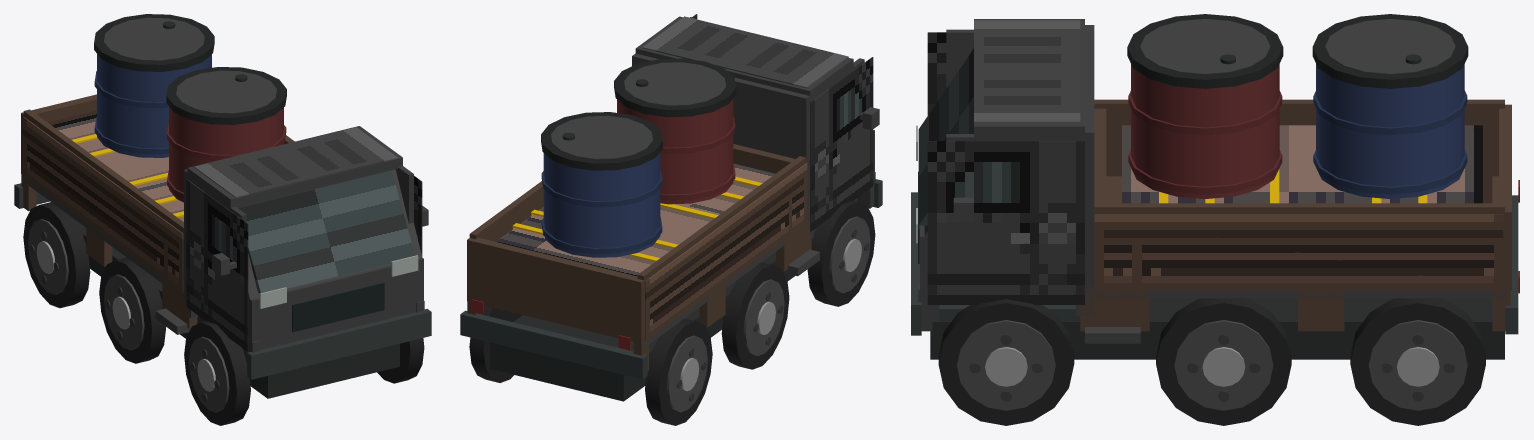
The model's file is CMU3DRMCPropVehicleSmallTruckBrownCargoAlt.glb.
The picture shows the model from 3 angles, left to right: view 1: azimuth 30°, elevation 25°; view 2: azimuth 150°, elevation 25°; view 3: azimuth 270°, elevation 25°; orthographic projection. The views are drawn at different scales.
Visible parts, largest first — view 1: continuous sloped windshield, original cargo side -1, original cab door -1, original cab roof, cab lower front, barrel 1 shell, front bumper, barrel 0 shell, ladder chassis, barrel 0 recessed gray lid, barrel 1 recessed gray lid, original strapped load top (+28 smaller); view 2: tailgate, original cargo side -1, barrel 1 shell, original cab door -1, original cab roof, barrel 0 shell, ladder chassis, cab rear wall, original strapped load top, rear bumper, barrel 0 recessed gray lid, barrel 1 recessed gray lid (+25 smaller); view 3: original cargo side 1, original cab door 1, barrel 0 shell, barrel 1 shell, original cab roof, original strapped load top, ladder chassis, tire 2 1, tire 3 1, tire 1 1, barrel 1 recessed gray lid, barrel 0 recessed gray lid (+34 smaller).
Boxes of the visible parts, x1,y1,x2,y2 form: continuous sloped windshield: (238, 170, 414, 293); original cargo side -1: (23, 116, 183, 292); original cab door -1: (186, 179, 248, 351); original cab roof: (194, 127, 397, 197); cab lower front: (248, 257, 423, 351); barrel 1 shell: (97, 54, 211, 157); front bumper: (247, 308, 431, 379); barrel 0 shell: (169, 106, 283, 202); ladder chassis: (76, 220, 399, 398); barrel 0 recessed gray lid: (176, 70, 276, 113); barrel 1 recessed gray lid: (104, 17, 204, 60); original strapped load top: (48, 110, 183, 221); tailgate: (467, 237, 646, 343); original cargo side -1: (645, 163, 807, 341); barrel 1 shell: (543, 152, 660, 257); original cab door -1: (810, 57, 873, 231); original cab roof: (642, 16, 848, 88); barrel 0 shell: (617, 99, 733, 204); ladder chassis: (490, 238, 812, 401); cab rear wall: (632, 53, 813, 239); original strapped load top: (496, 163, 775, 276); rear bumper: (460, 310, 647, 379); barrel 0 recessed gray lid: (624, 62, 726, 105); barrel 1 recessed gray lid: (551, 115, 652, 159); original cargo side 1: (1094, 214, 1503, 290); original cab door 1: (927, 141, 1084, 304); barrel 0 shell: (1131, 64, 1279, 198); barrel 1 shell: (1316, 64, 1464, 198); original cab roof: (974, 20, 1080, 122); original strapped load top: (1122, 125, 1492, 203); ladder chassis: (930, 298, 1504, 359); tire 2 1: (1156, 298, 1291, 425); tire 3 1: (1350, 298, 1485, 425); tire 1 1: (938, 299, 1074, 425); barrel 1 recessed gray lid: (1325, 19, 1455, 74); barrel 0 recessed gray lid: (1140, 19, 1270, 74).
Bounding box in the file's own units: 1.04 × 1.21 × 2.06.
Materials: 33 (6 with a texture image).
